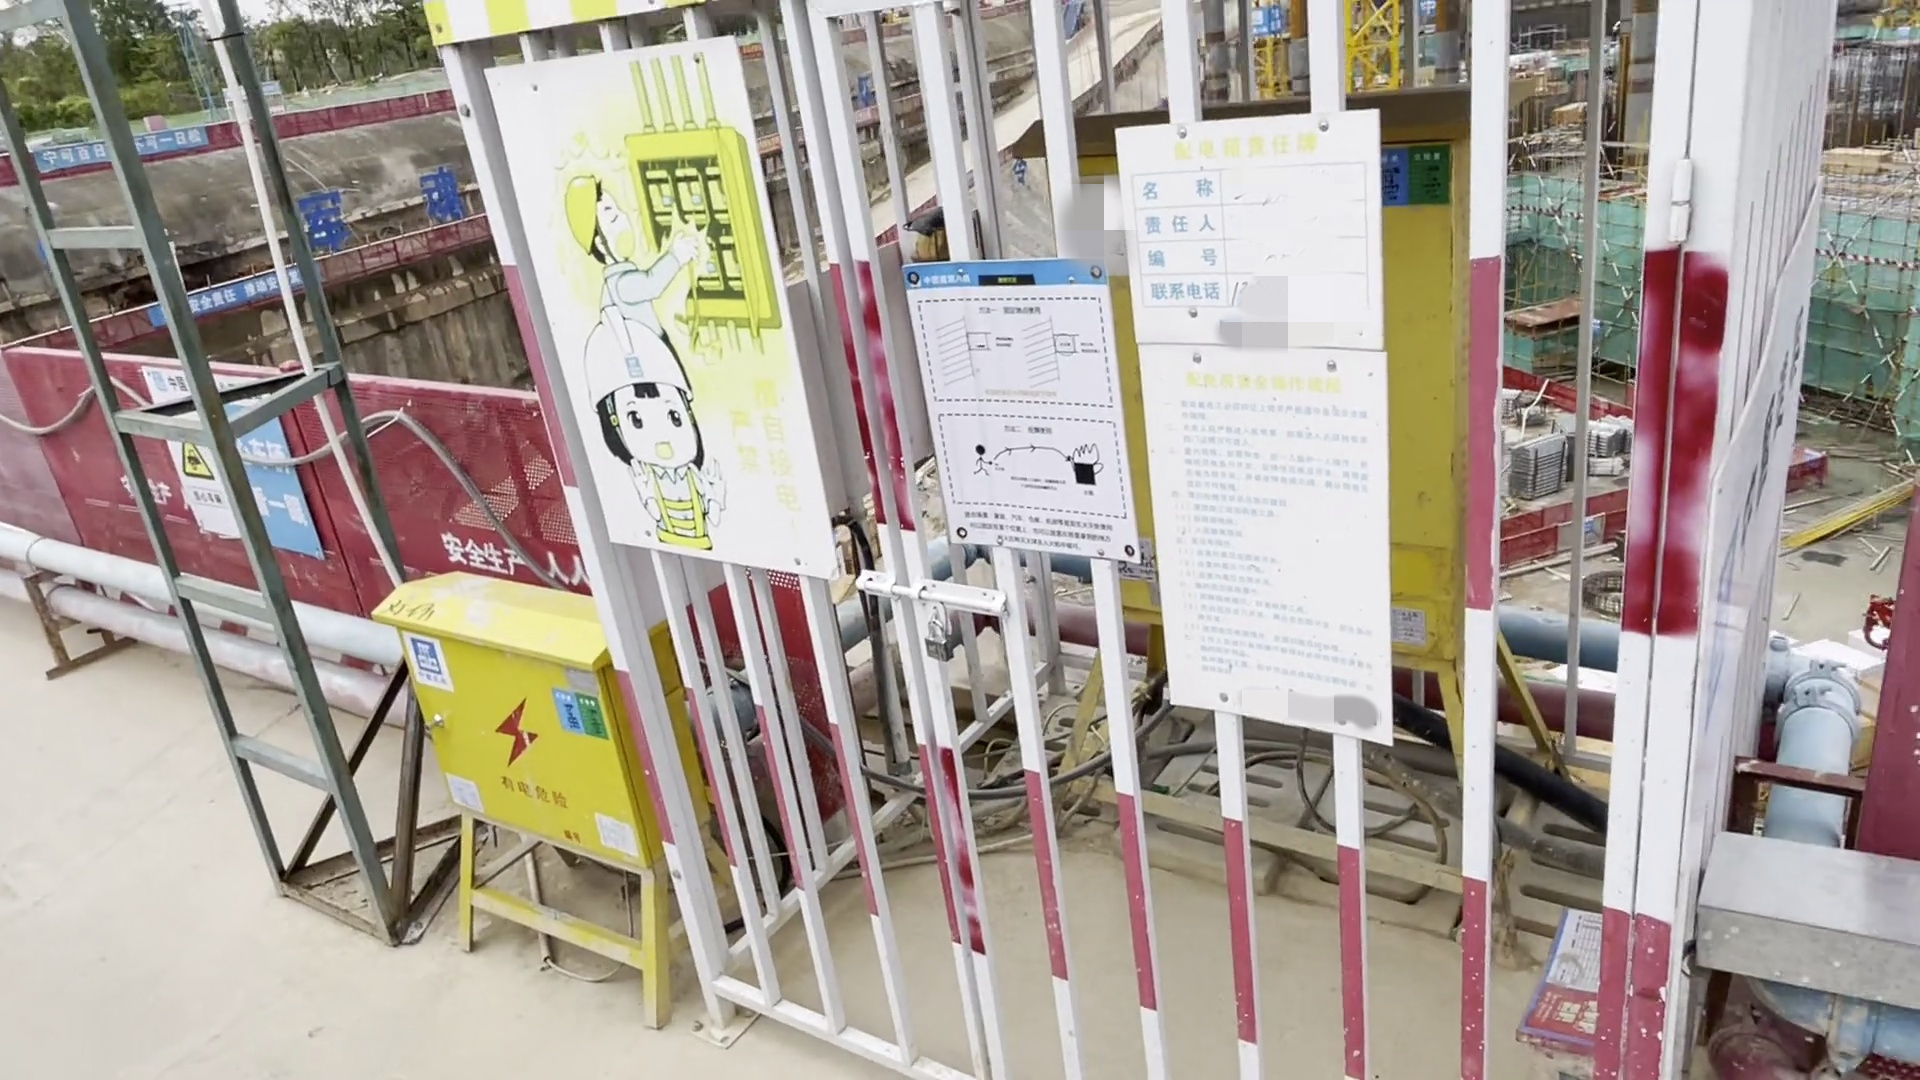ebox: (355, 560, 698, 1048)
fence: (1, 334, 595, 600)
slogan: (475, 36, 858, 587), (146, 371, 347, 570)
